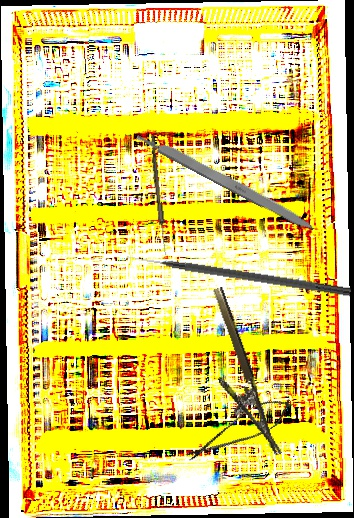Hook Surgical: (126, 250, 352, 298)
Micro Scissor: (180, 388, 300, 472)
Needle Holder: (190, 285, 282, 466)
Scalpel Handle: (135, 128, 318, 234)
Surgical Spoon: (148, 134, 169, 256)
